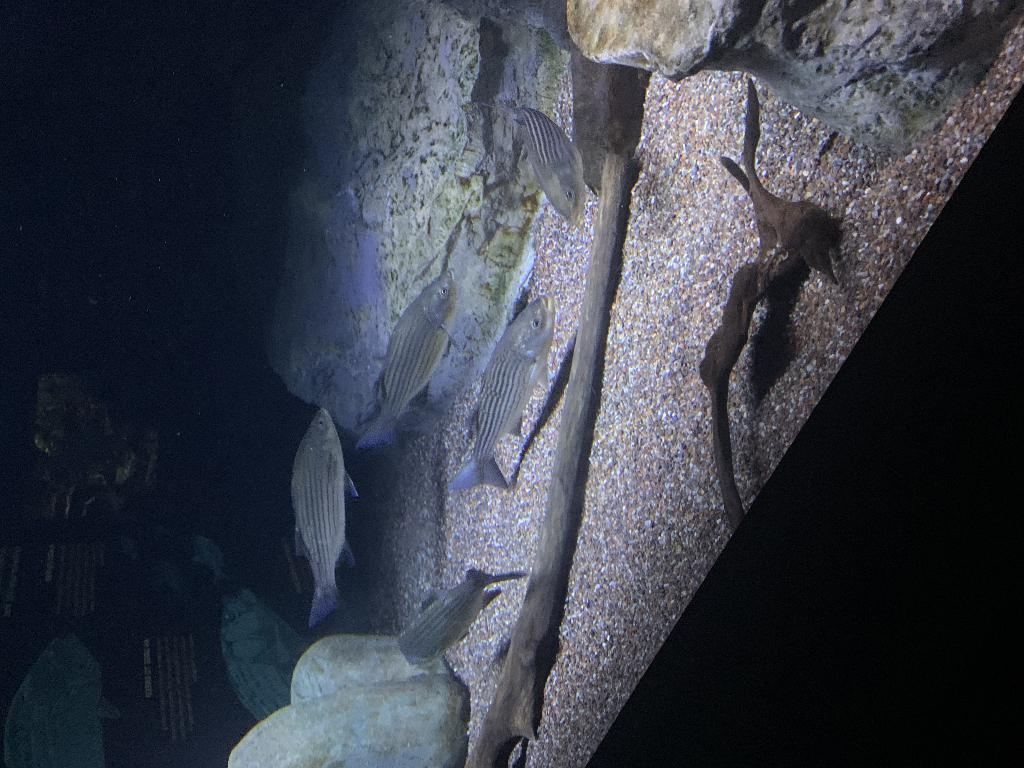fish: (449, 291, 559, 495), (352, 272, 456, 456), (287, 404, 359, 630), (389, 568, 527, 668), (514, 104, 586, 226)
